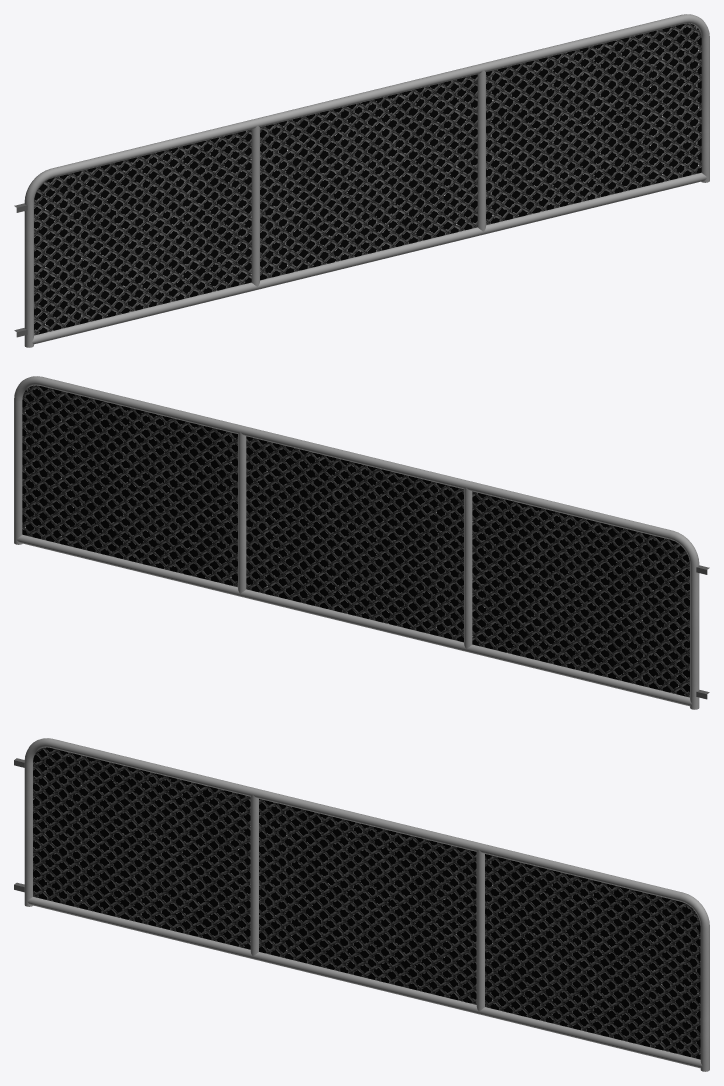
The model's file is fence-chainlink-gate-4m-noPost-cbj_LOD00.gltf.
3 views of the same model, one above another, from view 1: azimuth 30°, elevation 25°; view 2: azimuth 150°, elevation 25°; view 3: azimuth 330°, elevation 25° (orthographic).
Visible parts, largest first — view 1: post.001; view 2: post.001; view 3: post.001.
Boxes of the visible parts, x1,y1,x2,y2 form: post.001: (14,14,709,347); post.001: (14,376,709,709); post.001: (14,738,709,1071).
Size of the model in its own units: 4.26 by 1 by 0.05.
